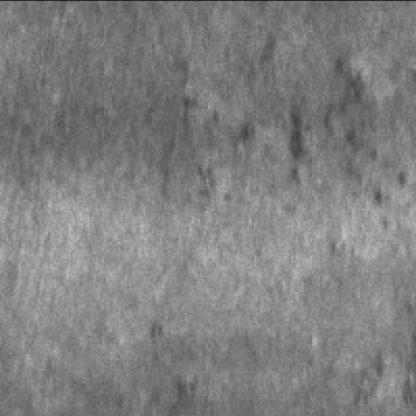rolled-in_scale: (289, 54, 412, 210), (170, 96, 260, 208), (150, 318, 202, 416)
